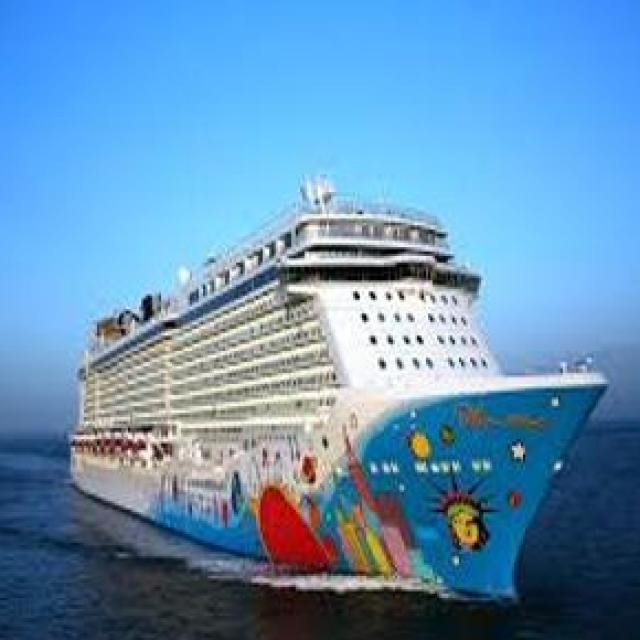passenger ship: (66, 179, 608, 602)
